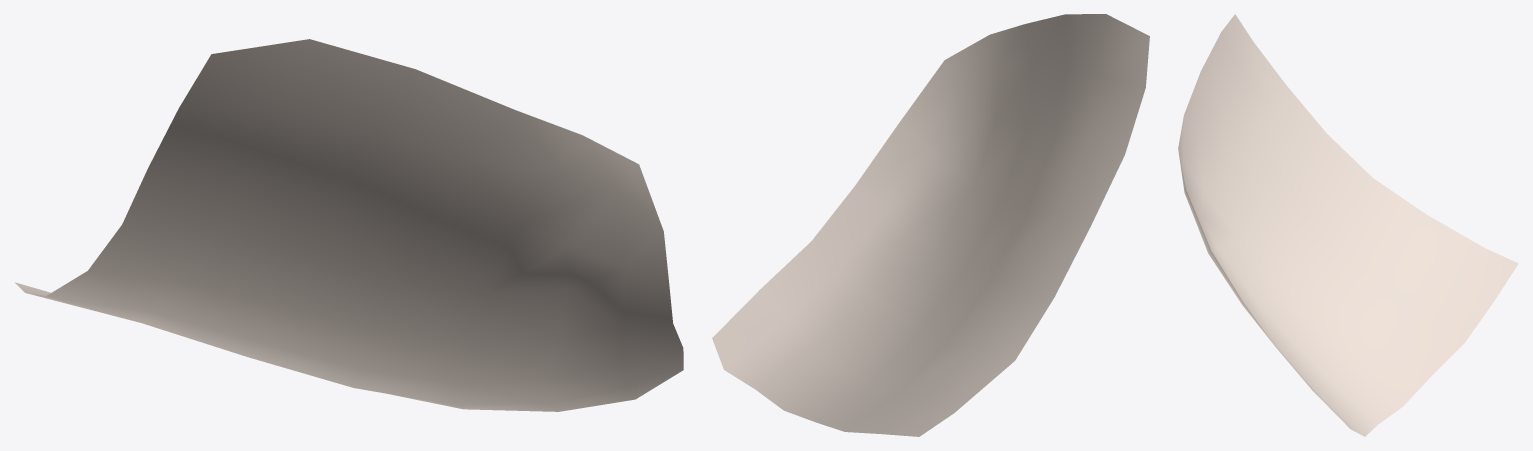
The model's file is frau2-1002.glb.
3 renders of one model, left to right at view 1: azimuth 30°, elevation 25°; view 2: azimuth 150°, elevation 25°; view 3: azimuth 270°, elevation 25°, orthographic. The views are drawn at different scales.
Visible parts, largest first — view 1: VH_F_medial_condyle_of_right_femur_sup; view 2: VH_F_medial_condyle_of_right_femur_sup; view 3: VH_F_medial_condyle_of_right_femur_sup.
Part boxes in pixels (x1,y1,x2,y2): VH_F_medial_condyle_of_right_femur_sup: (15,39,683,411); VH_F_medial_condyle_of_right_femur_sup: (712,14,1149,436); VH_F_medial_condyle_of_right_femur_sup: (1178,14,1518,436).
Bounding box in the file's own units: 0.0247 × 0.0231 × 0.0243.
